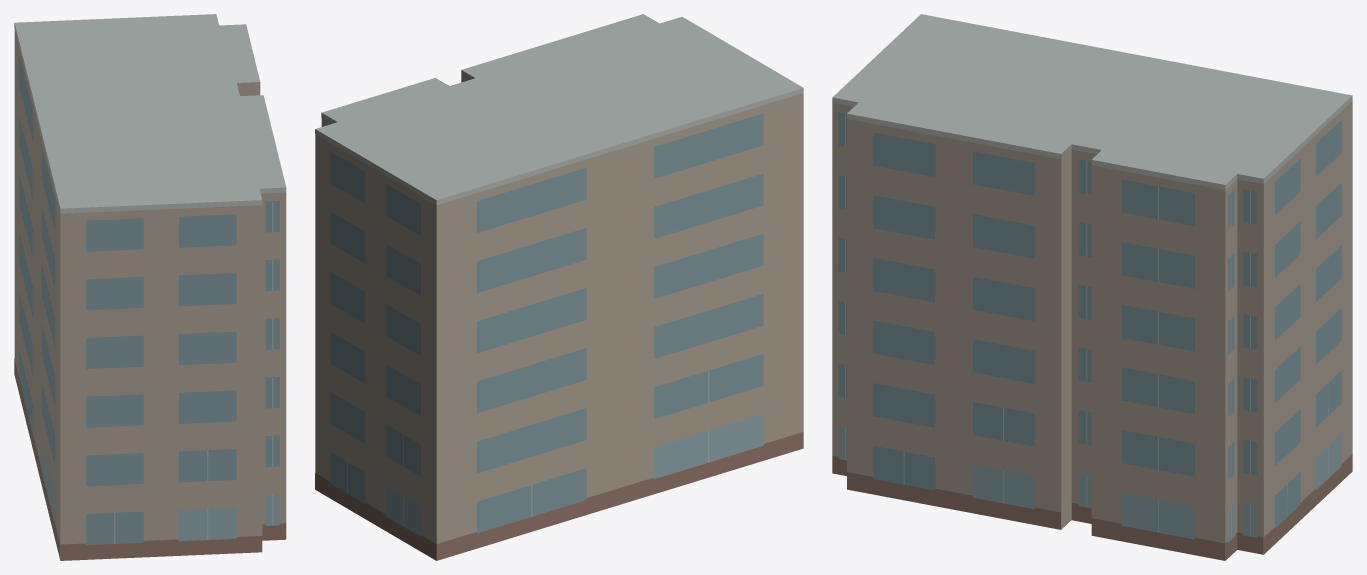
File: survey-upis-32525168.glb
3 renders of one model, left to right at view 1: azimuth 30°, elevation 25°; view 2: azimuth 150°, elevation 25°; view 3: azimuth 270°, elevation 25°, orthographic. The views are drawn at different scales.
Visible parts, largest first — view 1: survey-upis-32525168.tmp; view 2: survey-upis-32525168.tmp; view 3: survey-upis-32525168.tmp.
Part boxes in pixels (left/top/right/bottom): survey-upis-32525168.tmp: left=14, top=14, right=286, bottom=560; survey-upis-32525168.tmp: left=315, top=14, right=803, bottom=560; survey-upis-32525168.tmp: left=832, top=14, right=1352, bottom=560.
Size of the model in its own units: 16.79 by 17.2 by 21.59.
